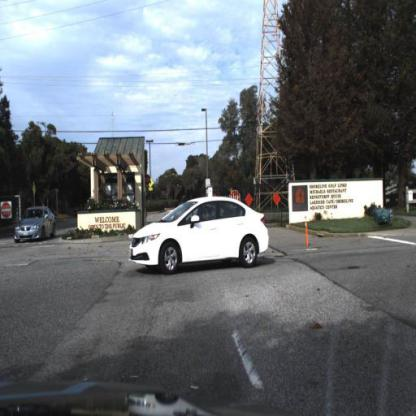car: (129, 194, 271, 277), (12, 204, 60, 246)
